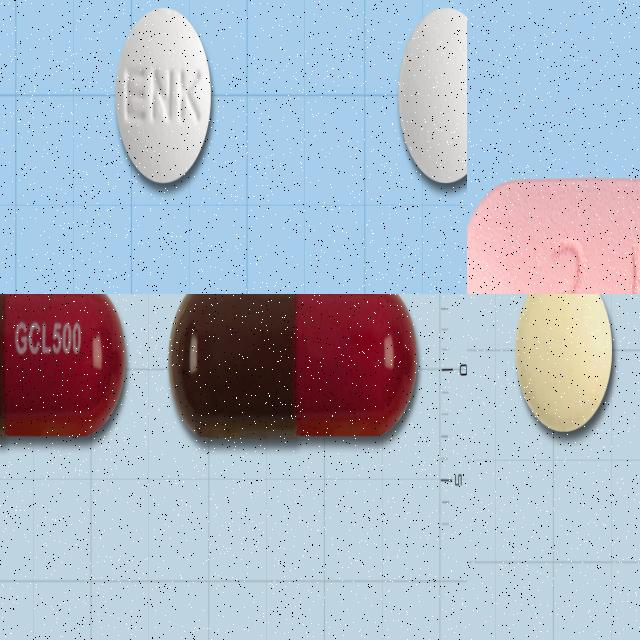Gomcillin Cap -250mg: (169, 294, 418, 441), (0, 294, 126, 445)
Levoflo: (115, 7, 213, 183), (398, 6, 467, 184)
Levofuracin: (514, 294, 613, 432)
Liflocin: (467, 180, 640, 294)
